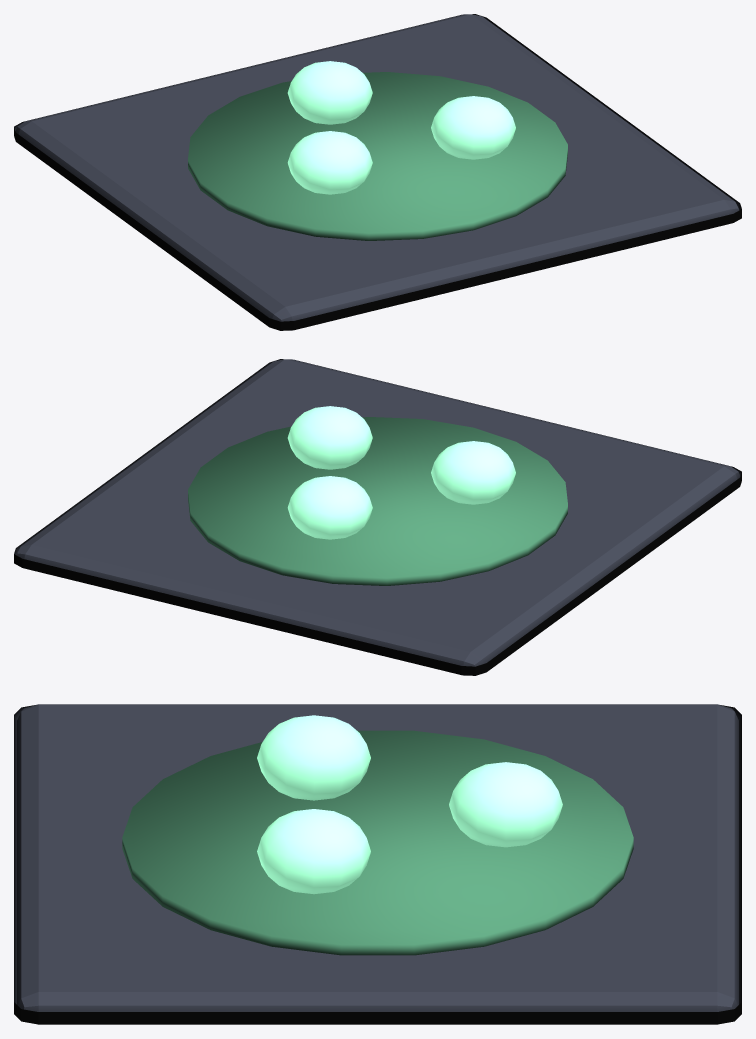
File: trap_sleep.glb
3 renders of one model, top to bottom at view 1: azimuth 30°, elevation 25°; view 2: azimuth 150°, elevation 25°; view 3: azimuth 270°, elevation 25°, orthographic. The views are drawn at different scales.
Visible parts, largest first — view 1: trap_sleep; view 2: trap_sleep; view 3: trap_sleep.
Part boxes in pixels (x1=…): trap_sleep: x1=14, y1=14, x2=741, y2=330; trap_sleep: x1=14, y1=359, x2=741, y2=675; trap_sleep: x1=14, y1=704, x2=741, y2=1024.
Size of the model in its own units: 0.74 by 0.1256 by 0.74.
